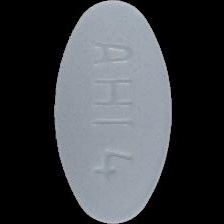43063-587: (0, 0, 224, 224)
